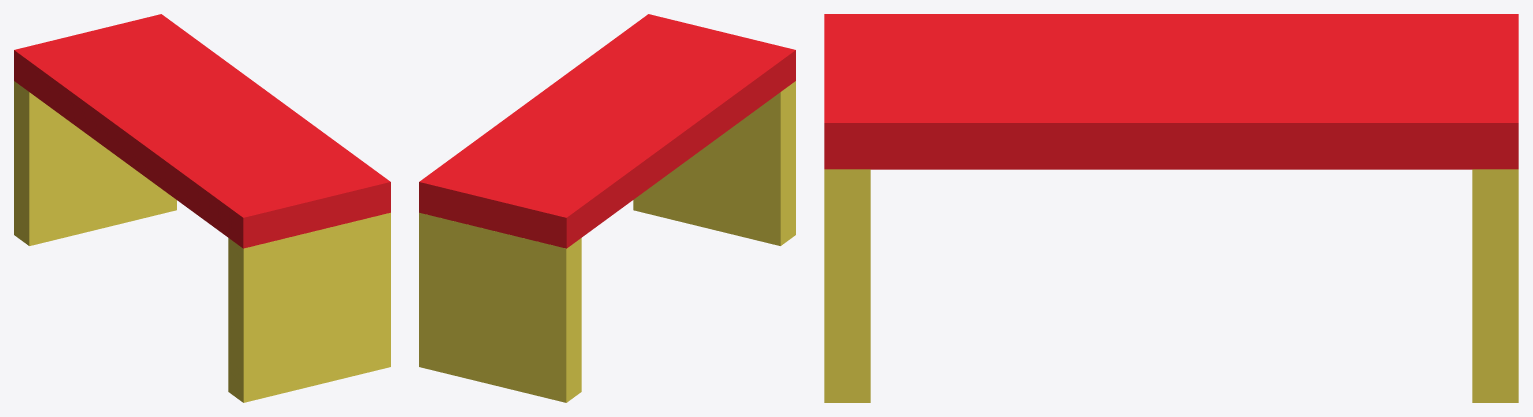
Rendered from Table.fbx.
3 views of the same model, side by side, from view 1: azimuth 30°, elevation 25°; view 2: azimuth 150°, elevation 25°; view 3: azimuth 270°, elevation 25° (orthographic). The views are drawn at different scales.
Visible parts, largest first — view 1: Cube, Cube.001; view 2: Cube, Cube.001; view 3: Cube, Cube.001.
Part boxes in pixels (x1,y1,x2,y2): Cube: (14, 14, 390, 248); Cube.001: (14, 81, 390, 402); Cube: (419, 14, 795, 248); Cube.001: (419, 81, 795, 402); Cube: (824, 14, 1518, 169); Cube.001: (824, 169, 1518, 402).
Bounding box in the file's own units: 200 × 240 × 539.
